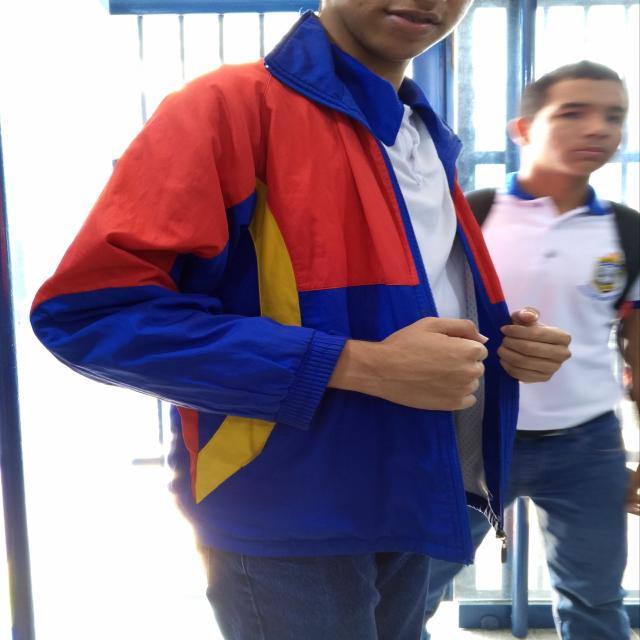chaqueta_unefa: (29, 9, 521, 566)
uniforme_superior: (478, 176, 640, 432)
